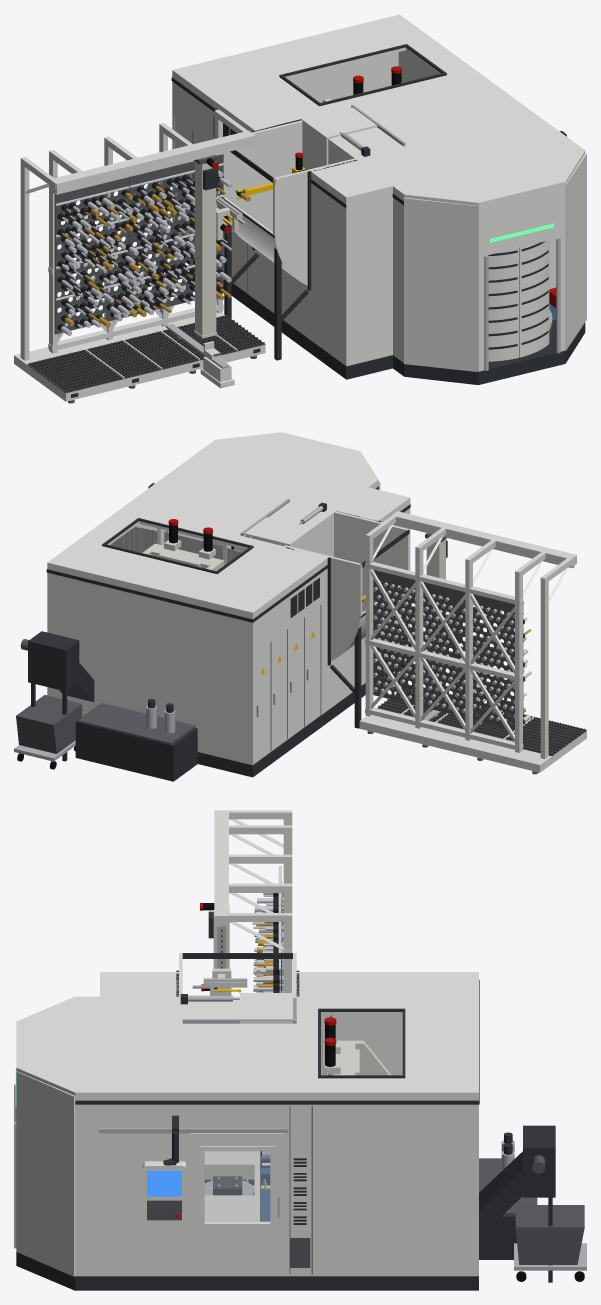
Rendered from clock1200evo_fms_4ax_sidemag2.glb.
3 views of the same model, one above another, from view 1: azimuth 30°, elevation 25°; view 2: azimuth 150°, elevation 25°; view 3: azimuth 270°, elevation 25° (orthographic). The views are drawn at different scales.
Parts seen in each view (by area): view 1: enclosure__evo_white, apc_housing__evo_white, twm_frame__truss_white, tc_box__evo_white, twm_frame__anthracite_lt, twm_tools__holder, twm_base__grating, twm_tools__tool_bright, enclosure__anthracite, twm_base__truss_white, mag_loader__struct_grey, apc_housing__anthracite (+10 smaller); view 2: enclosure__evo_white, twm_frame__truss_white, twm_frame__anthracite_lt, chip_coolant__anthracite, electrical_cabinet__evo_white, tc_box__evo_white, enclosure__anthracite, apc_housing__evo_white, twm_base__truss_white, twm_tools__steel, chip_cart__steel_dark, twm_base__grating (+10 smaller); view 3: enclosure__evo_white, apc_housing__evo_white, enclosure__anthracite, twm_frame__truss_white, chip_coolant__anthracite, operator_door__evo_white, operator_door__glass_clear, chip_cart__steel_dark, table__struct_grey, enclosure__steel, column__struct_grey, tc_door__evo_white (+11 smaller).
Boxes of the visible parts, <box> form: enclosure__evo_white: <box>172,14,573,366</box>; apc_housing__evo_white: <box>393,142,586,371</box>; twm_frame__truss_white: <box>20,109,255,360</box>; tc_box__evo_white: <box>223,120,355,285</box>; twm_frame__anthracite_lt: <box>54,154,223,334</box>; twm_tools__holder: <box>57,168,224,331</box>; twm_base__grating: <box>27,315,265,393</box>; twm_tools__tool_bright: <box>61,170,232,335</box>; enclosure__anthracite: <box>171,44,446,379</box>; twm_base__truss_white: <box>14,312,265,401</box>; mag_loader__struct_grey: <box>194,161,217,338</box>; apc_housing__anthracite: <box>392,194,585,384</box>; enclosure__evo_white: <box>47,447,410,765</box>; twm_frame__truss_white: <box>365,511,576,759</box>; twm_frame__anthracite_lt: <box>373,570,523,730</box>; chip_coolant__anthracite: <box>28,631,197,781</box>; electrical_cabinet__evo_white: <box>254,604,320,763</box>; tc_box__evo_white: <box>287,511,409,660</box>; enclosure__anthracite: <box>46,502,410,777</box>; apc_housing__evo_white: <box>205,432,380,548</box>; twm_base__truss_white: <box>359,698,586,772</box>; twm_tools__steel: <box>373,581,514,721</box>; chip_cart__steel_dark: <box>16,695,82,753</box>; twm_base__grating: <box>377,687,586,755</box>; enclosure__evo_white: <box>100,972,478,1276</box>; apc_housing__evo_white: <box>16,996,99,1276</box>; enclosure__anthracite: <box>100,970,479,1290</box>; twm_frame__truss_white: <box>214,810,292,992</box>; chip_coolant__anthracite: <box>479,1125,555,1282</box>; operator_door__evo_white: <box>190,1133,284,1239</box>; operator_door__glass_clear: <box>205,1152,269,1221</box>; chip_cart__steel_dark: <box>515,1205,584,1264</box>; table__struct_grey: <box>204,1151,260,1221</box>; enclosure__steel: <box>99,995,296,1133</box>; column__struct_grey: <box>324,1040,391,1075</box>; tc_door__evo_white: <box>239,993,292,1023</box>.
Size of the model in its own units: 8.55 by 3.54 by 7.86.
